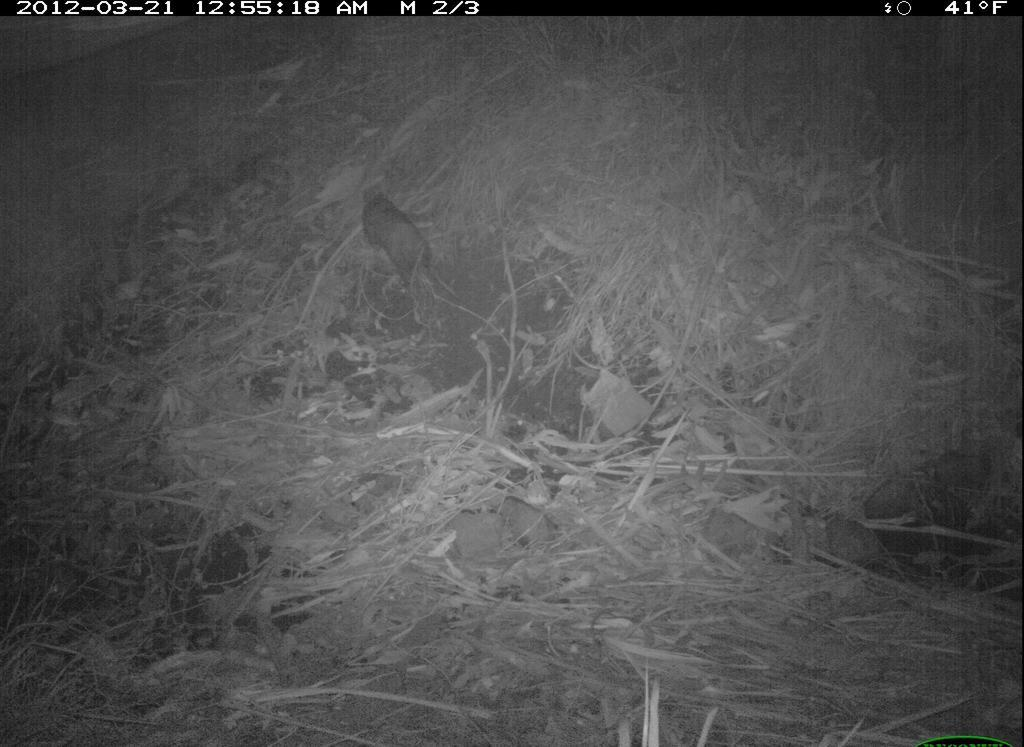opossum: (358, 181, 447, 299)
